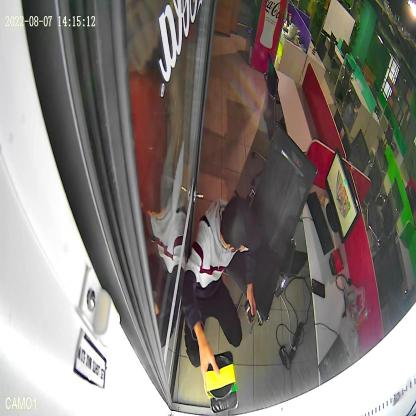green: (210, 350, 238, 414)
yellow: (205, 356, 236, 400)
